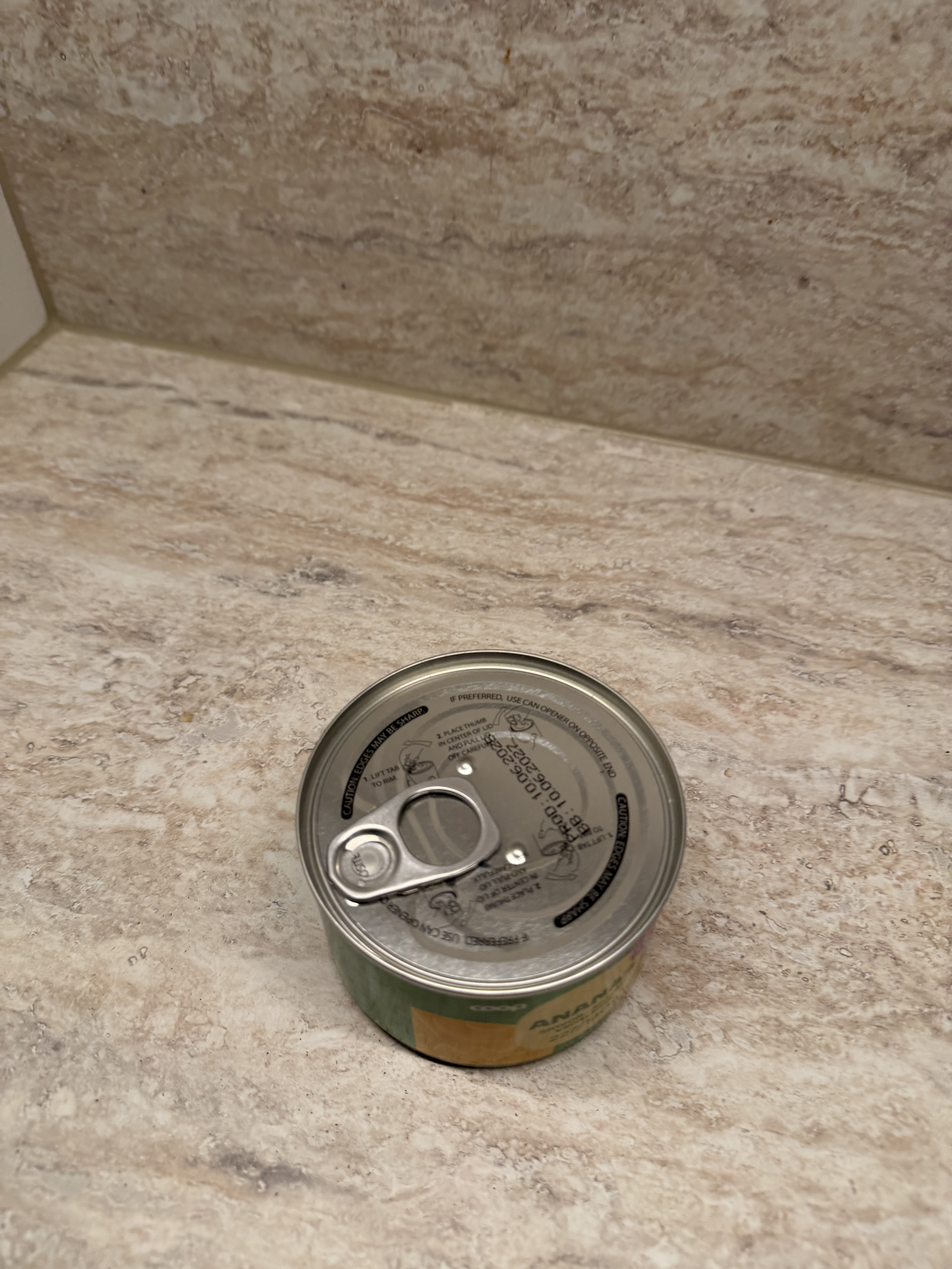Konservburk: (271, 643, 691, 1087)
